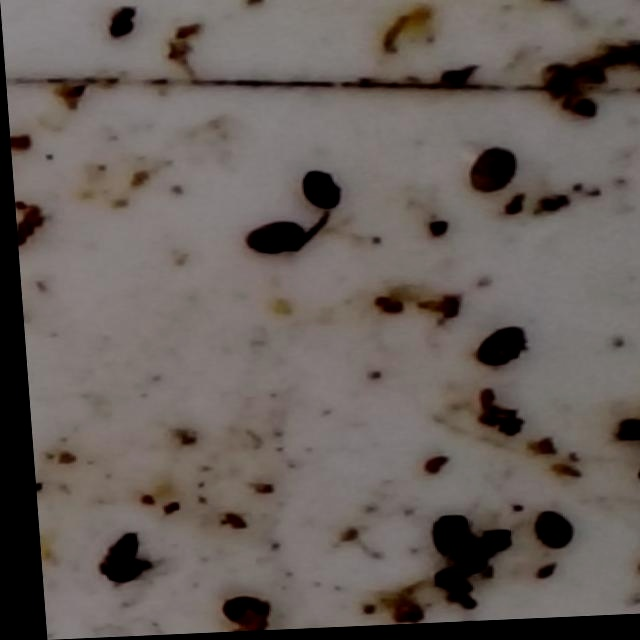varroa: (463, 149, 517, 201), (470, 329, 528, 375), (238, 224, 308, 261), (300, 172, 345, 216), (423, 518, 468, 561), (524, 514, 570, 556)
